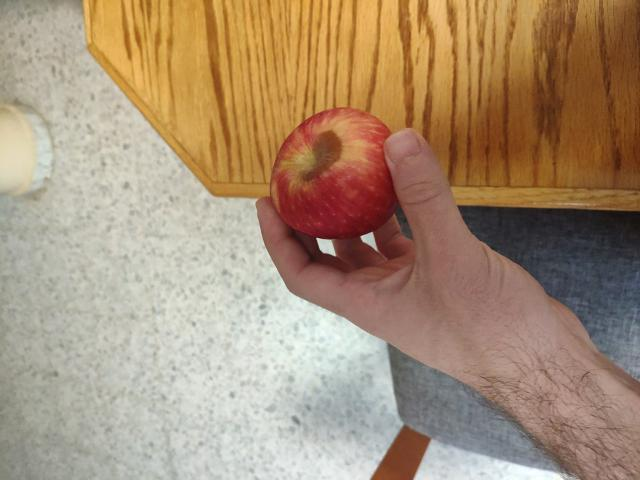apple: (266, 101, 416, 249)
